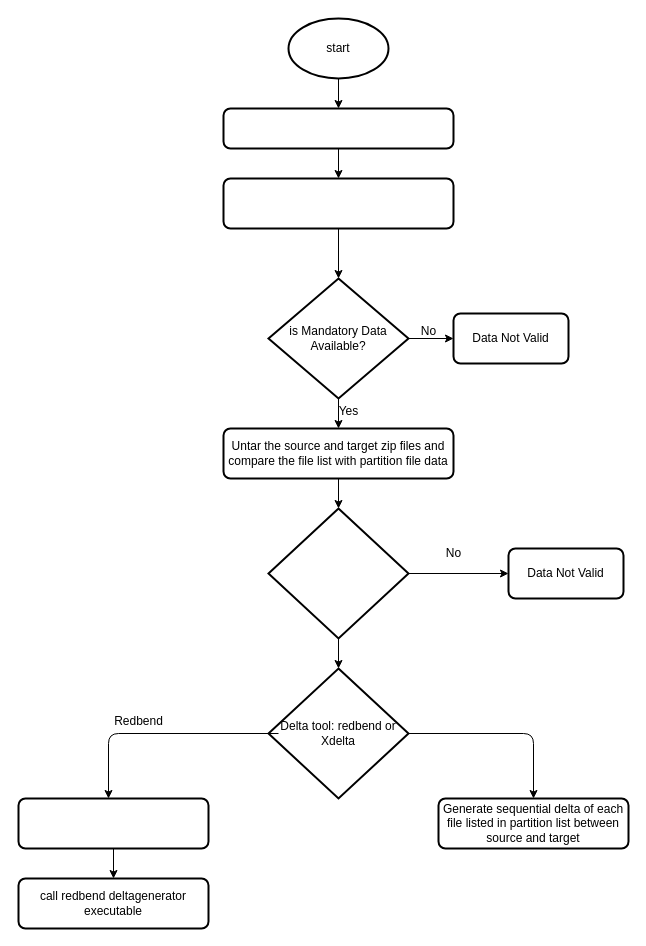
Some shapes in this 646 by 946 pixel diagram are drawn without their labels. The shapes that lost their labels are listed below. From the top down, each one's box as (x1, y1, x2, y2) in pixels, then its label:
(222, 107, 454, 149): DeltaGen Agent
(222, 177, 454, 229): Get User Input
(267, 507, 409, 639): Content valid?
(17, 797, 209, 849): Construct Config file
